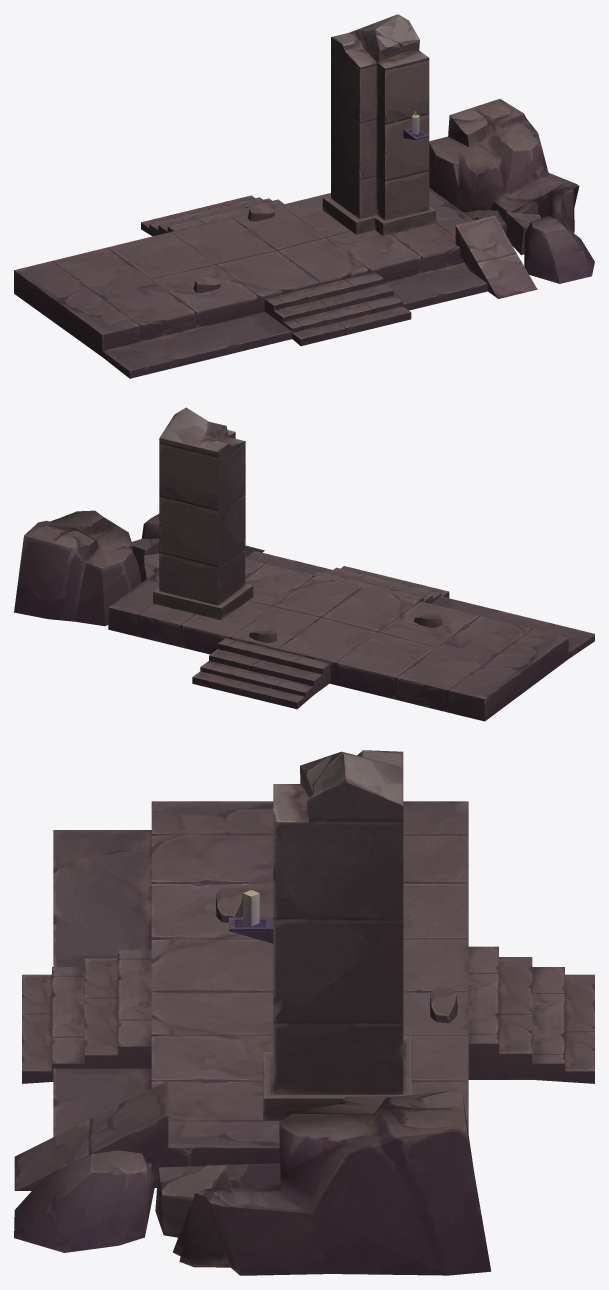
Rendered from poshuishimen_01.FBX.
The picture shows the model from 3 angles, top to bottom: view 1: azimuth 30°, elevation 25°; view 2: azimuth 150°, elevation 25°; view 3: azimuth 270°, elevation 25°; orthographic projection. The views are drawn at different scales.
Parts seen in each view (by area): view 1: poshuishimen_01; view 2: poshuishimen_01; view 3: poshuishimen_01.
Boxes of the visible parts, x1,y1,x2,y2 form: poshuishimen_01: (14, 14, 594, 378); poshuishimen_01: (14, 407, 594, 721); poshuishimen_01: (14, 750, 594, 1275).
Bounding box in the file's own units: 16.27 × 6.94 × 9.23.
